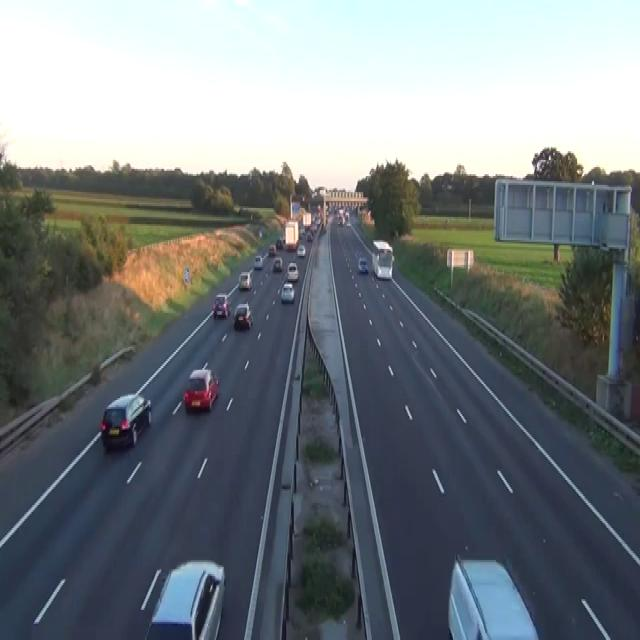Car: (447, 553, 539, 638), (144, 558, 225, 638), (100, 393, 152, 450), (183, 361, 219, 411), (233, 302, 253, 329), (212, 294, 230, 318), (280, 281, 295, 302), (238, 270, 252, 290), (286, 261, 298, 281), (357, 256, 368, 274), (253, 254, 263, 268), (273, 256, 282, 270), (276, 236, 284, 249), (297, 244, 305, 256), (268, 244, 276, 256), (306, 231, 313, 242), (310, 222, 317, 233), (314, 215, 320, 226), (299, 226, 305, 236), (248, 267, 253, 279), (337, 217, 343, 226), (344, 217, 350, 226), (321, 224, 326, 233), (258, 228, 262, 238)
Truck: (371, 240, 393, 279), (284, 220, 299, 250), (302, 212, 311, 230)
